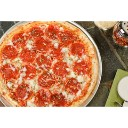pepperonipizza: (1, 21, 102, 105)
